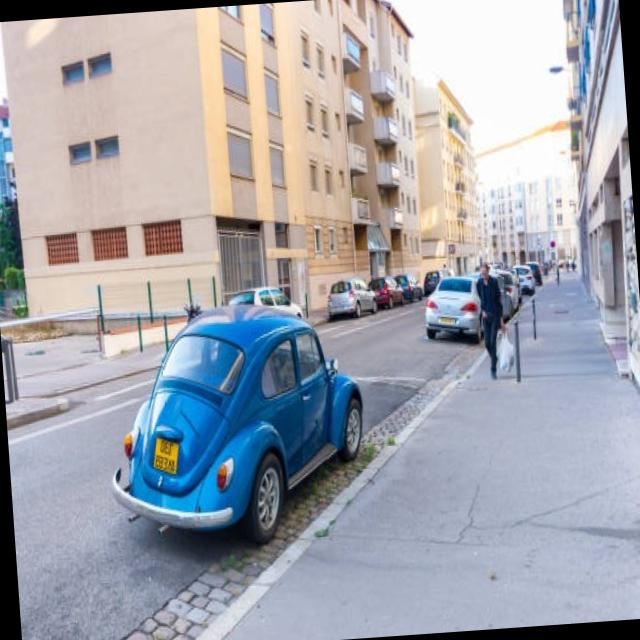car: (104, 296, 375, 540), (421, 272, 485, 336), (323, 278, 382, 320)
